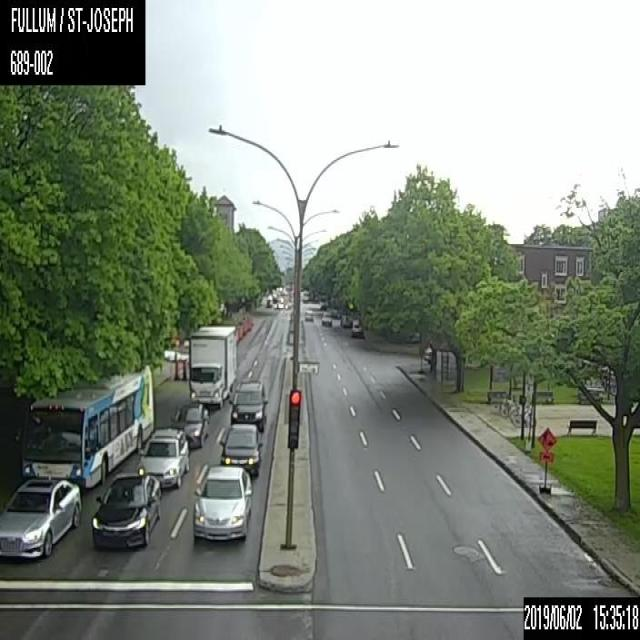bus: (13, 364, 154, 488)
construction: (536, 424, 556, 493), (172, 356, 179, 380), (180, 357, 187, 380)
vehicle: (0, 479, 81, 560), (90, 470, 160, 549), (192, 463, 253, 542), (187, 324, 236, 409), (136, 426, 190, 488), (218, 422, 262, 477), (227, 379, 268, 430), (167, 403, 209, 448), (320, 311, 332, 325), (351, 324, 363, 337), (304, 310, 313, 320)
